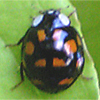Rash: (5, 7, 94, 94)
